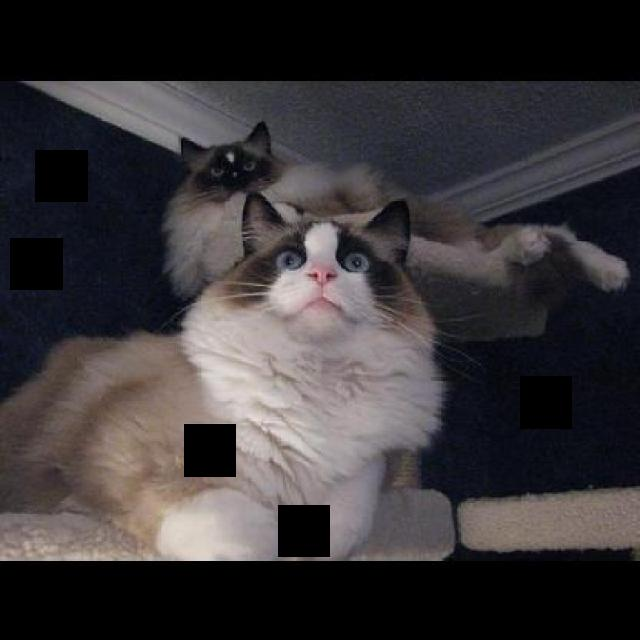unauthorized: (0, 191, 452, 560), (158, 118, 630, 302)
